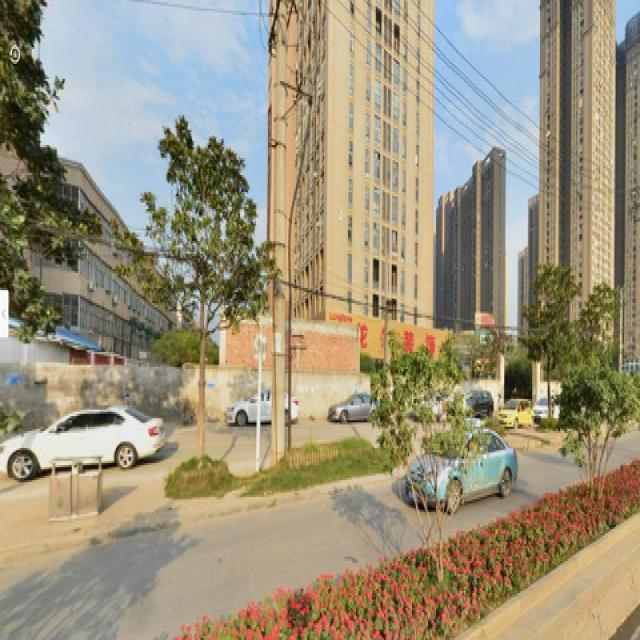magn: (164, 136, 257, 472)
